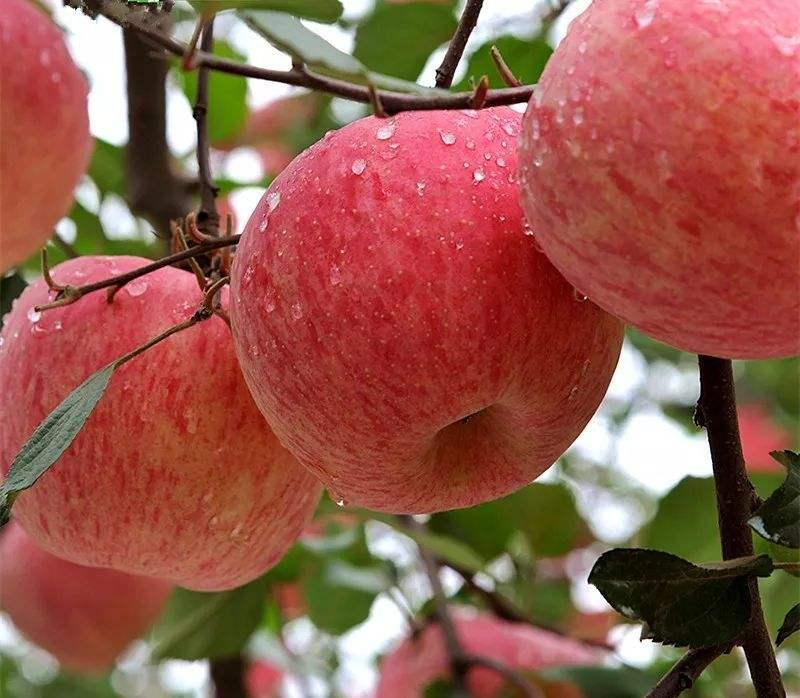apple: (233, 107, 625, 519), (1, 253, 320, 593), (520, 1, 799, 359), (1, 1, 93, 277)
